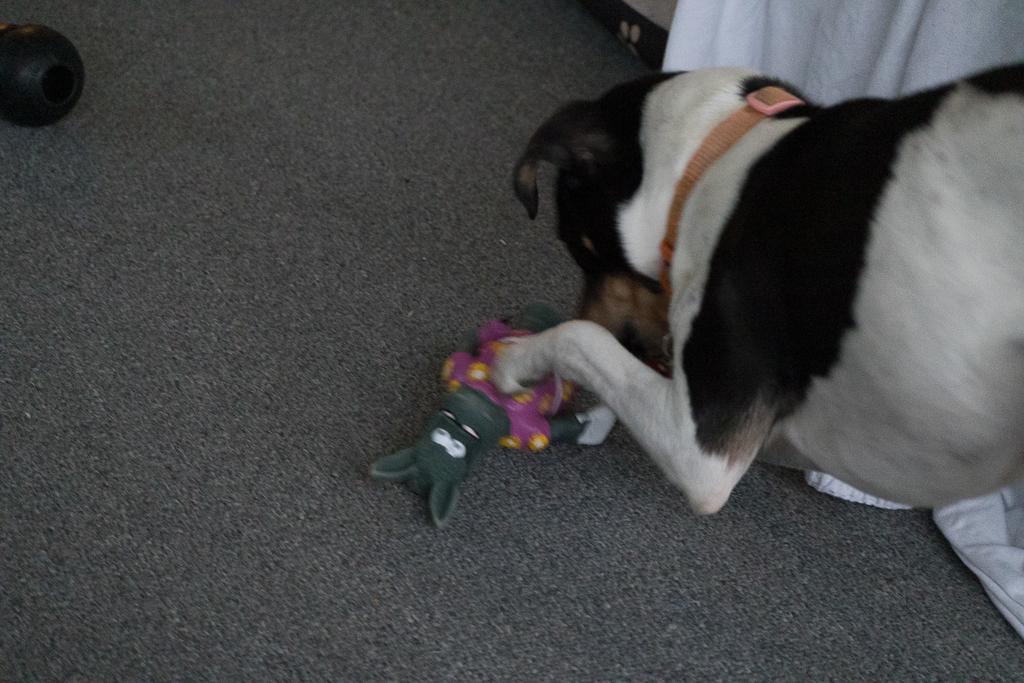Dog: (478, 54, 1024, 521)
Humanoid: (356, 301, 628, 536)
